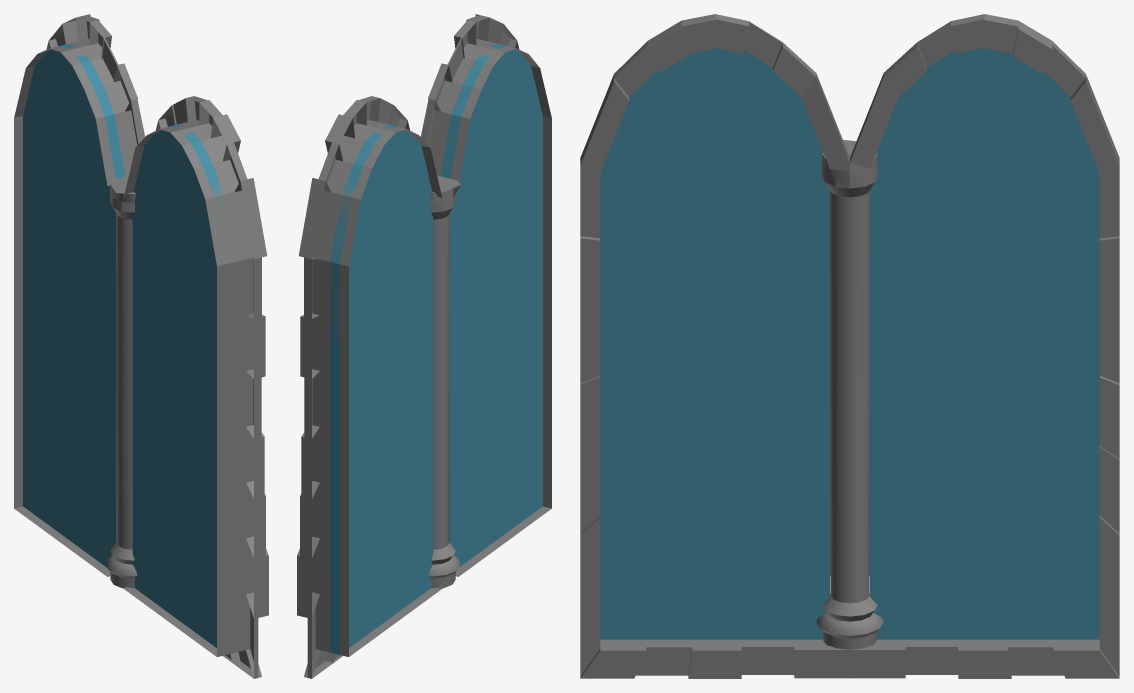
Rendered from FenetreDoubleCaro.fbx.
The picture shows the model from 3 angles, left to right: view 1: azimuth 30°, elevation 25°; view 2: azimuth 150°, elevation 25°; view 3: azimuth 270°, elevation 25°; orthographic projection. The views are drawn at different scales.
Visible parts, largest first — view 1: FenetreCaro; view 2: FenetreCaro; view 3: FenetreCaro.
Boxes of the visible parts, <box> form: FenetreCaro: <box>14,14,268,678</box>; FenetreCaro: <box>297,14,551,678</box>; FenetreCaro: <box>580,14,1119,678</box>.
Size of the model in its own units: 11.4 by 116 by 85.87.
